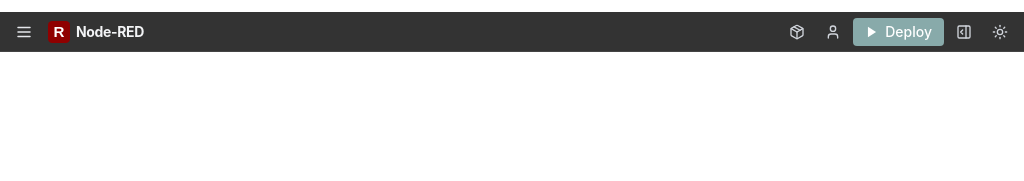
Header › interactions › opens user menu dropdown on user button click
The image size is (1024, 181).
Step 1. Click the button with test id "header-user-btn" → (833, 32), box [817,16,849,48]
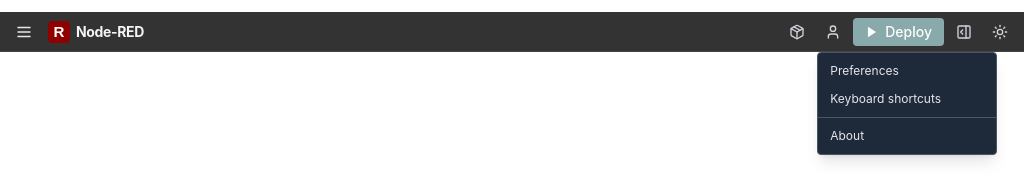
Check: the button "Preferences" is shown, box [818,56,996,84]
Check: the button "Keyboard shortcuts" is shown, box [818,84,996,112]
Check: the button "About" is shown, box [818,122,996,150]
